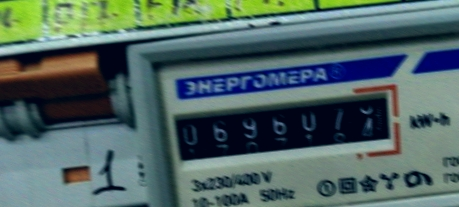0: (179, 118, 199, 143), (299, 103, 316, 130)
4: (357, 112, 375, 137)
6: (209, 115, 229, 140), (269, 107, 288, 133)
7: (329, 102, 346, 129)
9: (239, 111, 258, 137)
screen: (158, 74, 407, 173)
